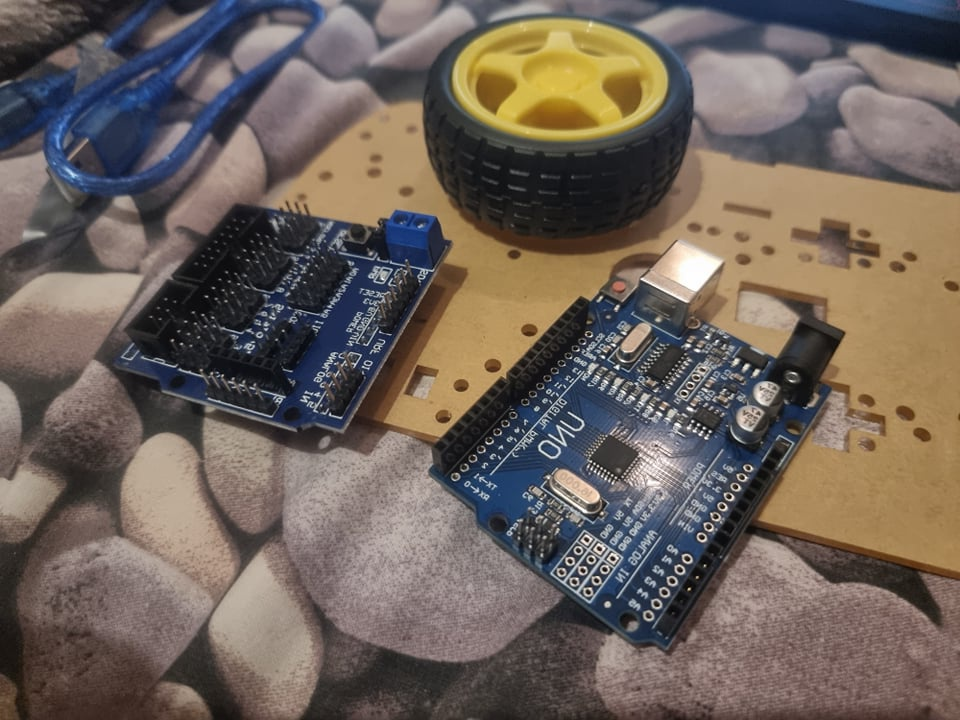5V EXPANSION: (106, 200, 451, 438)
UNO R3: (429, 238, 842, 645)
